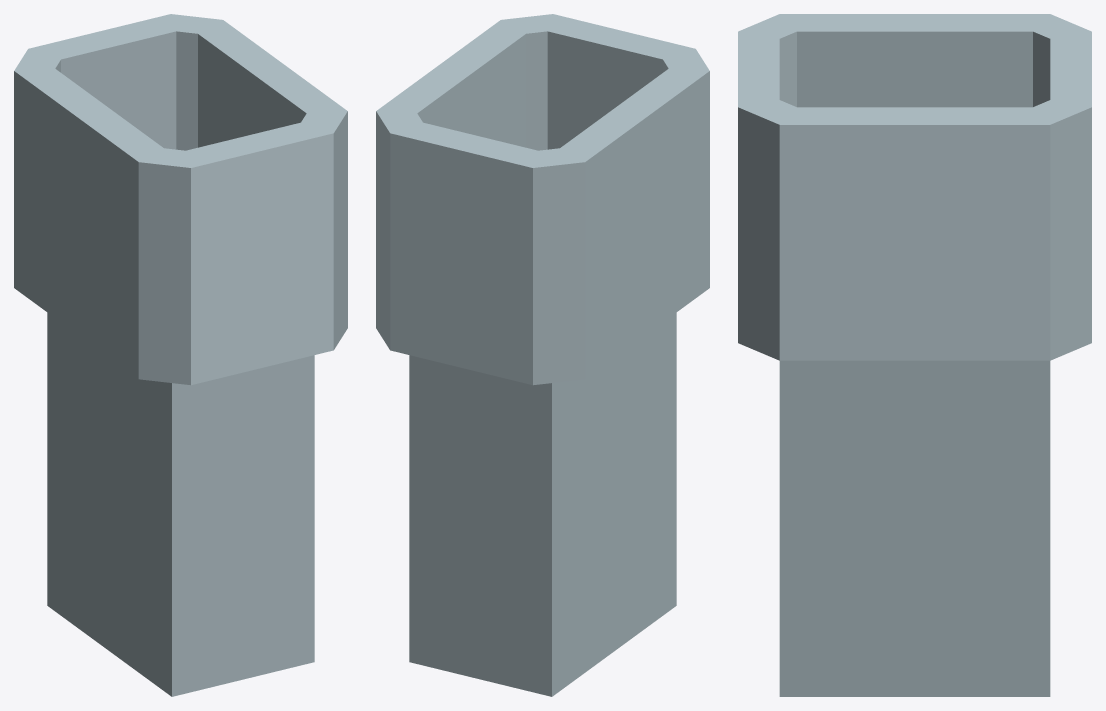
File: chimneyTop.glb
3 views of the same model, side by side, from view 1: azimuth 30°, elevation 25°; view 2: azimuth 150°, elevation 25°; view 3: azimuth 270°, elevation 25° (orthographic). The views are drawn at different scales.
Visible parts, largest first — view 1: chimneyTop; view 2: chimneyTop; view 3: chimneyTop.
Boxes of the visible parts, bbox=[...] form: chimneyTop: bbox=[14, 14, 347, 696]; chimneyTop: bbox=[376, 14, 709, 696]; chimneyTop: bbox=[738, 14, 1091, 696].
Size of the model in its own units: 0.2519 by 0.625 by 0.34.
